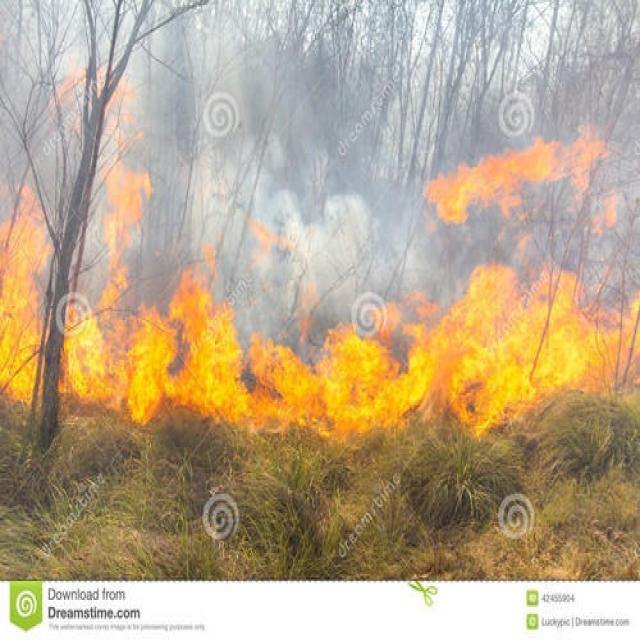fire: (1, 132, 639, 426)
